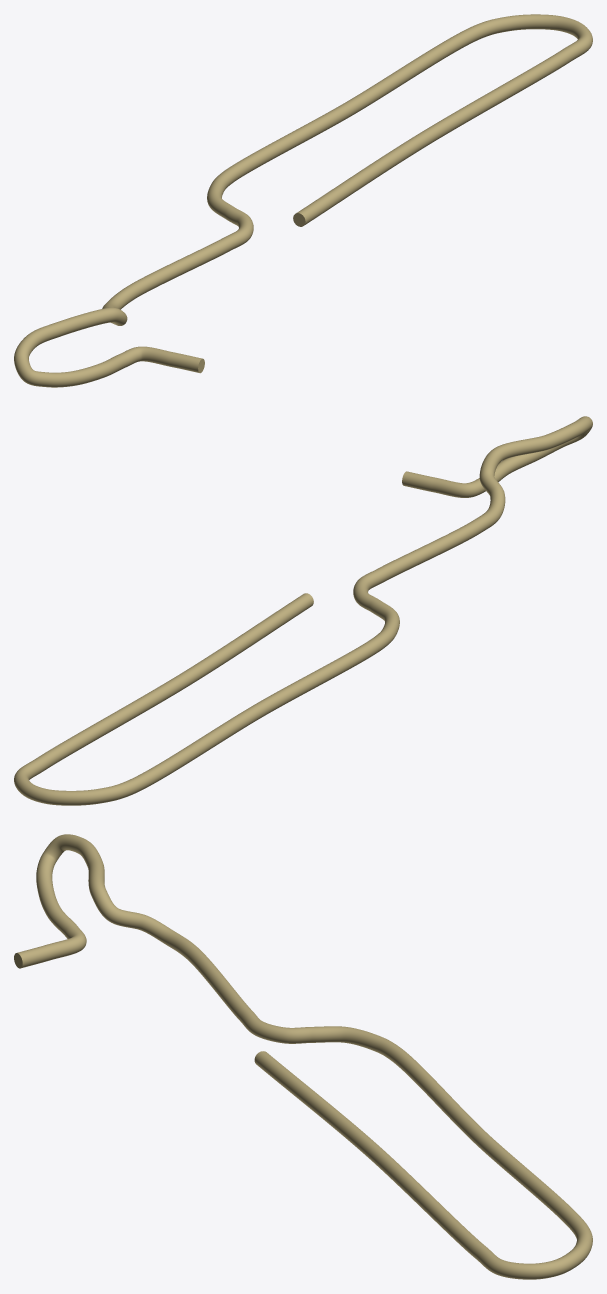
Rendered from wire-guide-material.glb.
3 views of the same model, one above another, from view 1: azimuth 30°, elevation 25°; view 2: azimuth 210°, elevation 25°; view 3: azimuth 270°, elevation 25° (orthographic). The views are drawn at different scales.
Visible parts, largest first — view 1: DF191020_ONE_CONTINUOUS_FORMED_WIRE_TWO_FREE_ENDS; view 2: DF191020_ONE_CONTINUOUS_FORMED_WIRE_TWO_FREE_ENDS; view 3: DF191020_ONE_CONTINUOUS_FORMED_WIRE_TWO_FREE_ENDS.
Part boxes in pixels (x1,y1,x2,y2): DF191020_ONE_CONTINUOUS_FORMED_WIRE_TWO_FREE_ENDS: (14, 14, 592, 387); DF191020_ONE_CONTINUOUS_FORMED_WIRE_TWO_FREE_ENDS: (14, 416, 592, 805); DF191020_ONE_CONTINUOUS_FORMED_WIRE_TWO_FREE_ENDS: (14, 834, 592, 1279).
Size of the model in its own units: 0.1349 by 0.0085 by 0.0794.
